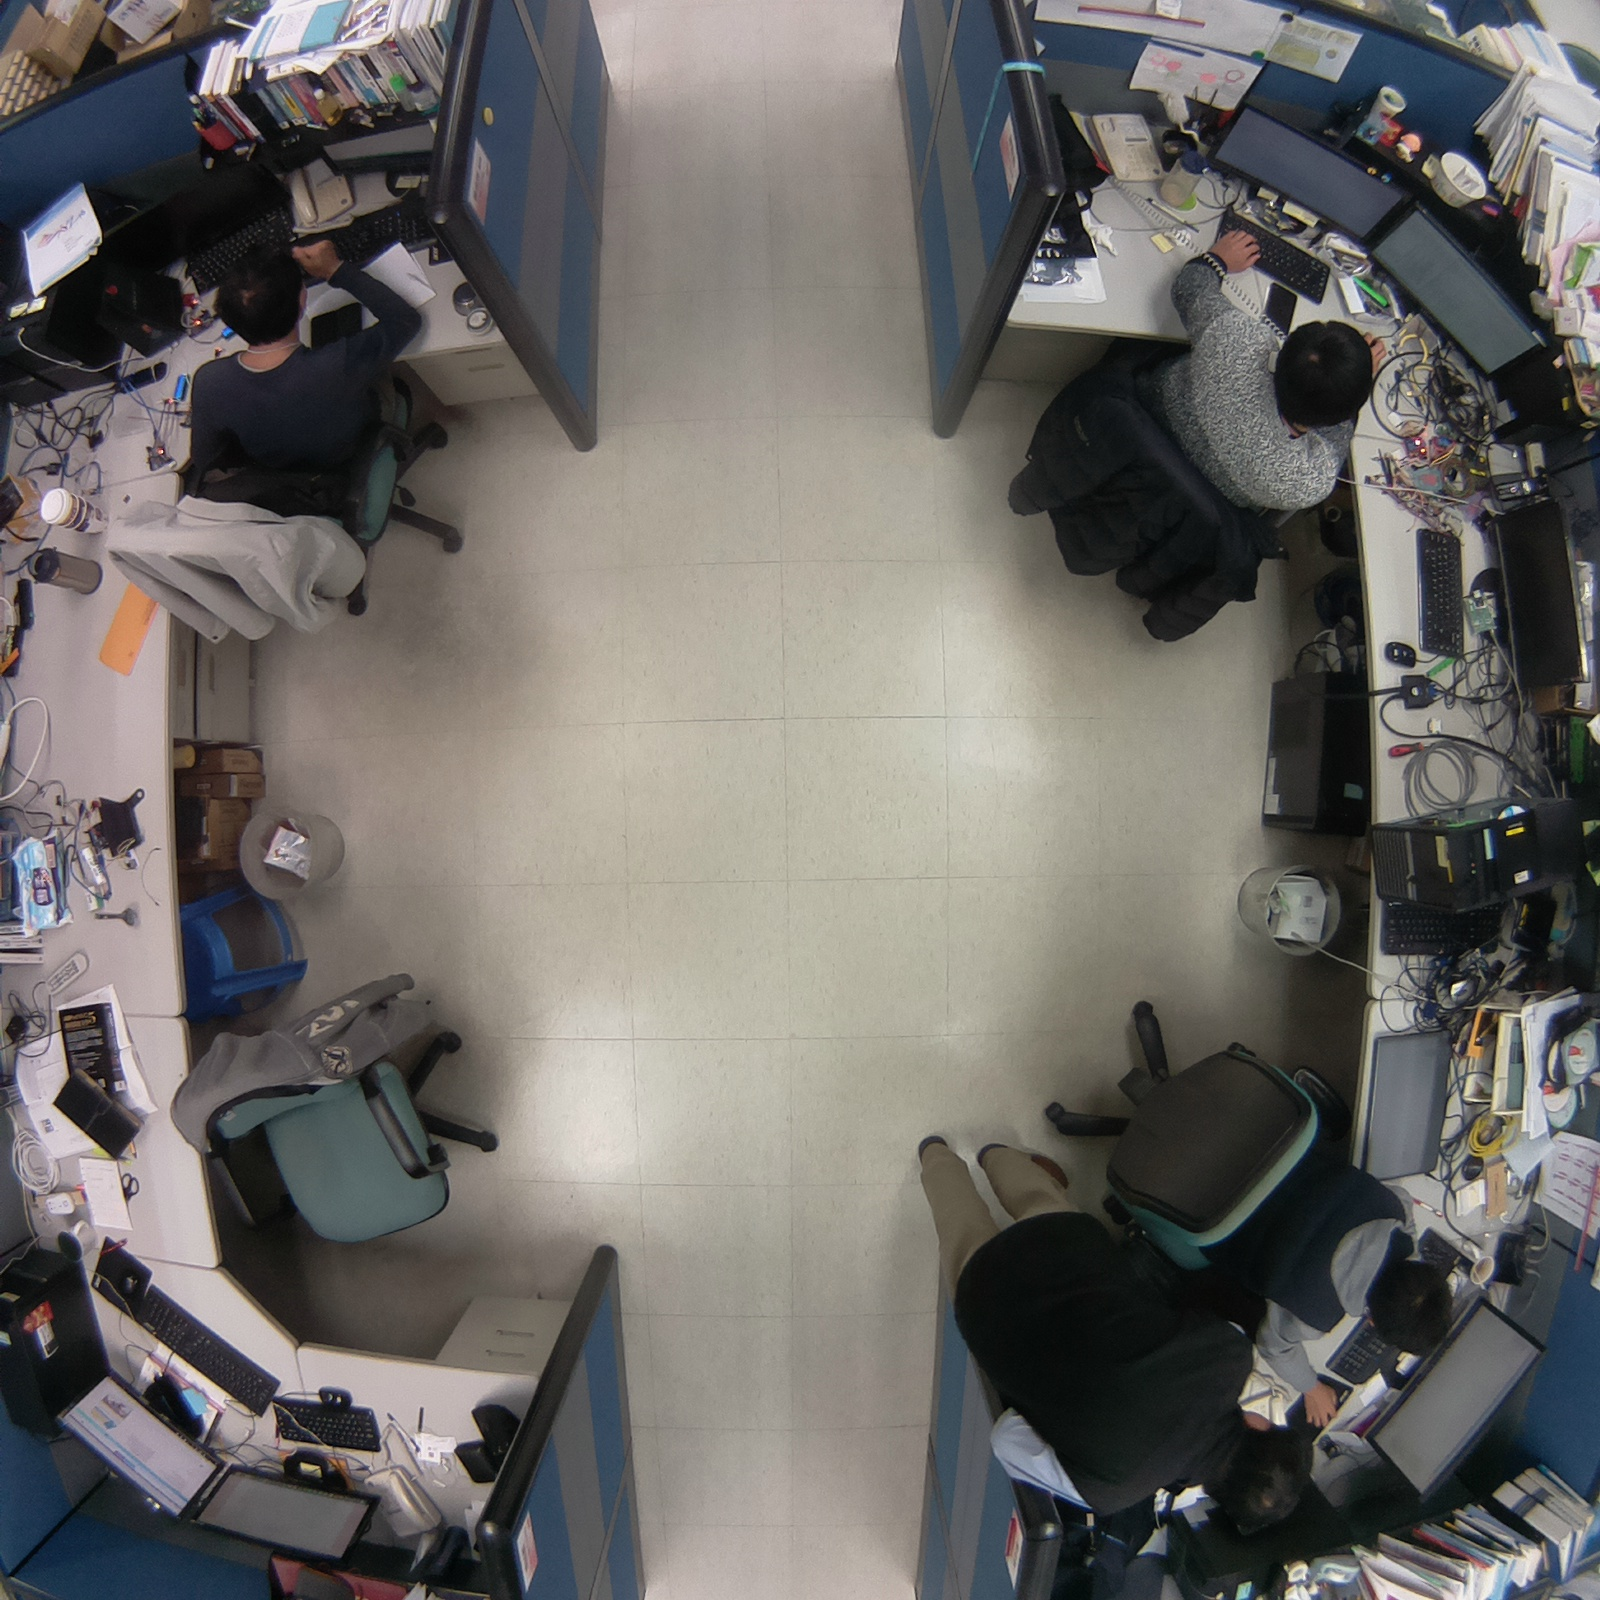chair: (160, 947, 517, 1275)
head: (1268, 308, 1378, 434), (1208, 1429, 1317, 1553), (1355, 1255, 1461, 1361), (208, 240, 315, 340)
sitting: (1032, 986, 1481, 1407), (994, 207, 1402, 663), (99, 229, 478, 665)
standing: (899, 1122, 1321, 1567)
